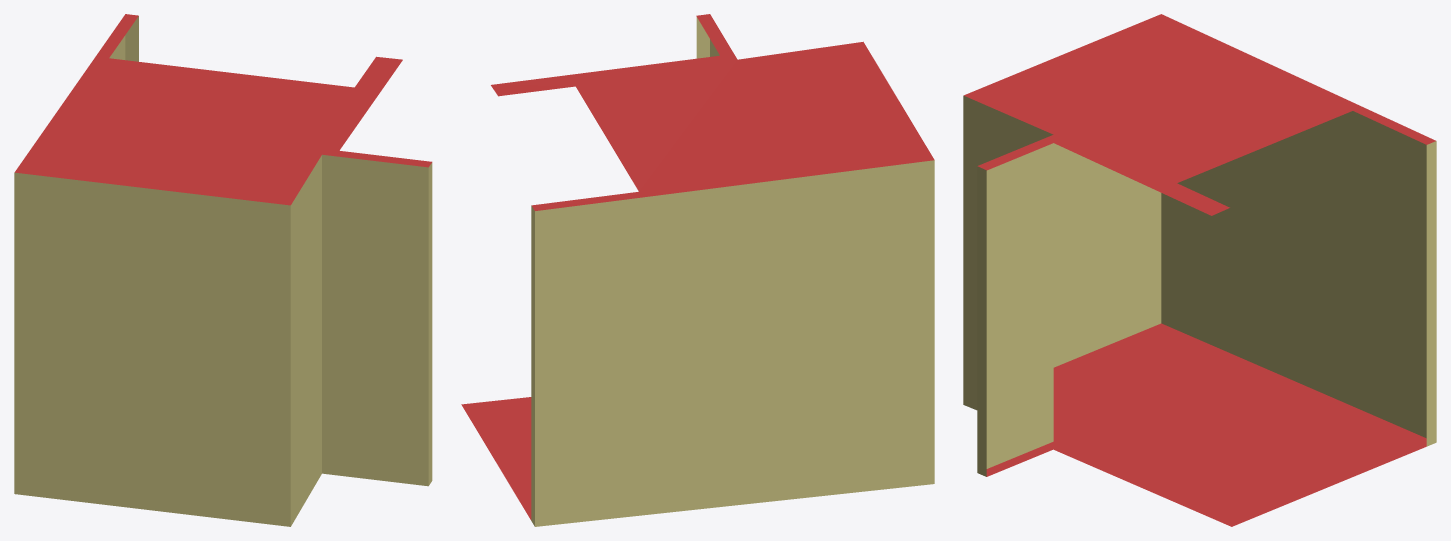
3 renders of one model, left to right at view 1: azimuth 30°, elevation 25°; view 2: azimuth 150°, elevation 25°; view 3: azimuth 270°, elevation 25°, orthographic. The views are drawn at different scales.
Bounding box in the file's own units: 8.98 × 8.81 × 6.36.
